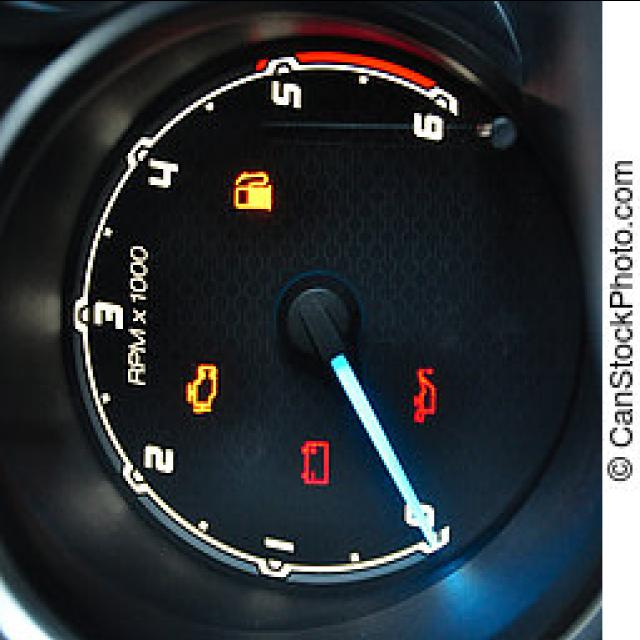Charging System Issue: (296, 434, 334, 488)
Check Engine: (184, 358, 224, 416)
Low Engine Oil Warning Light: (409, 360, 442, 424)
